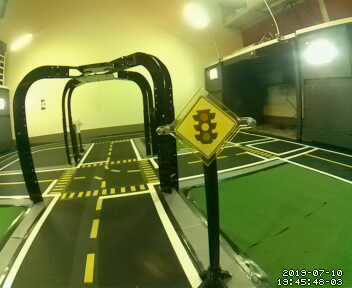Traffic light sign: (176, 97, 236, 158)
